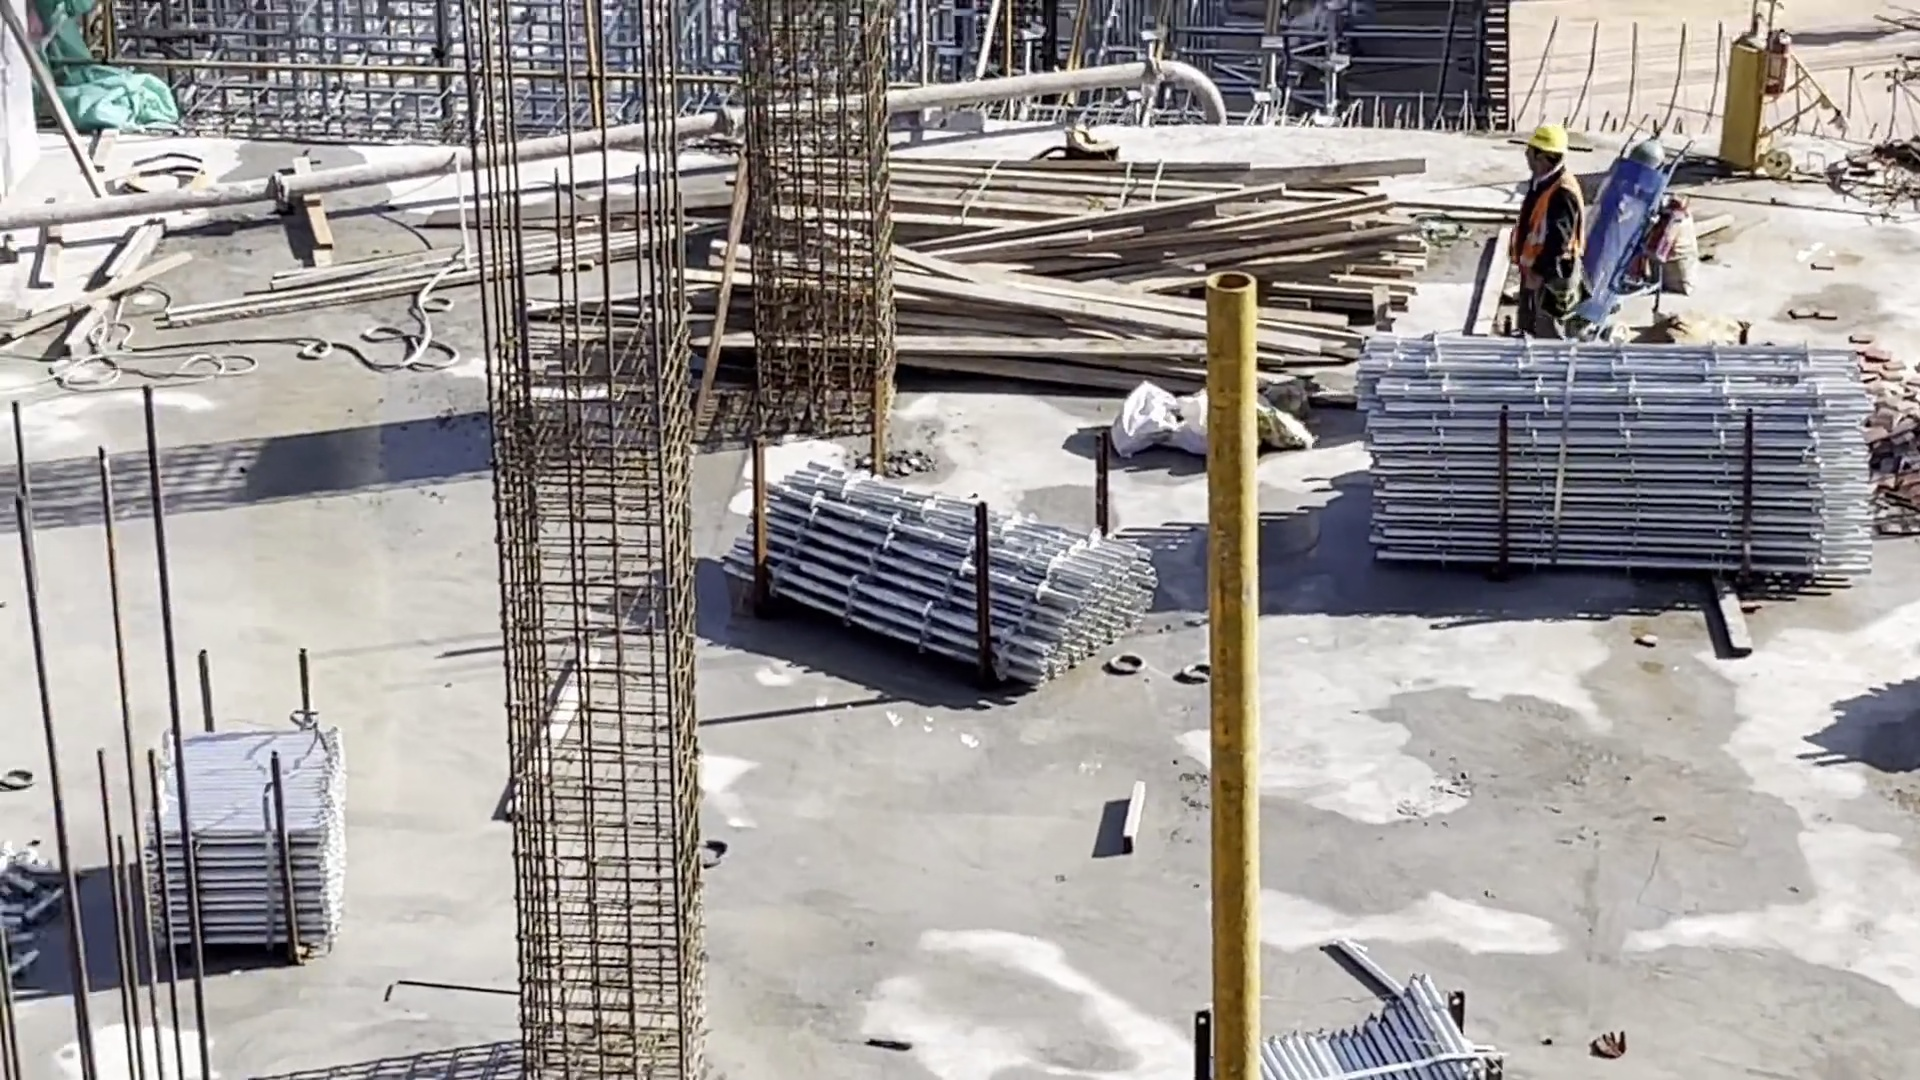helmet: (1523, 123, 1569, 159)
person: (1490, 120, 1590, 342)
scaffold: (1357, 332, 1862, 600), (720, 462, 1167, 699), (145, 713, 349, 972), (1229, 966, 1512, 1080)
vest: (1515, 178, 1580, 282)
wood: (890, 137, 1420, 383)
